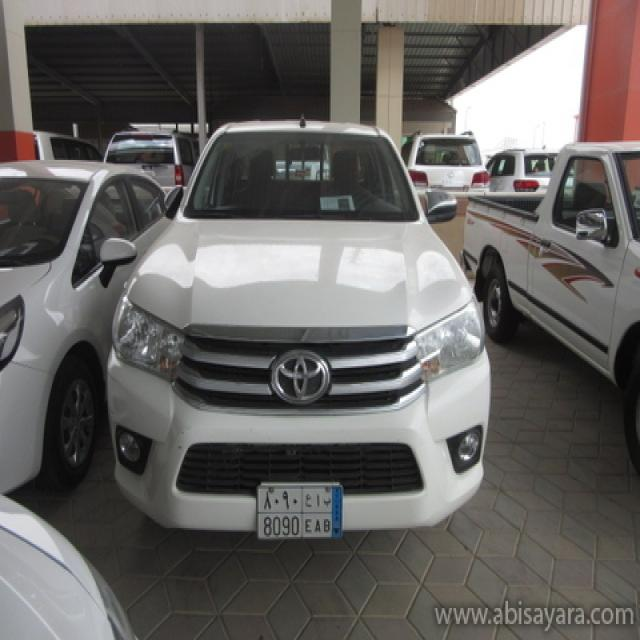license_plate: (255, 480, 344, 542)
